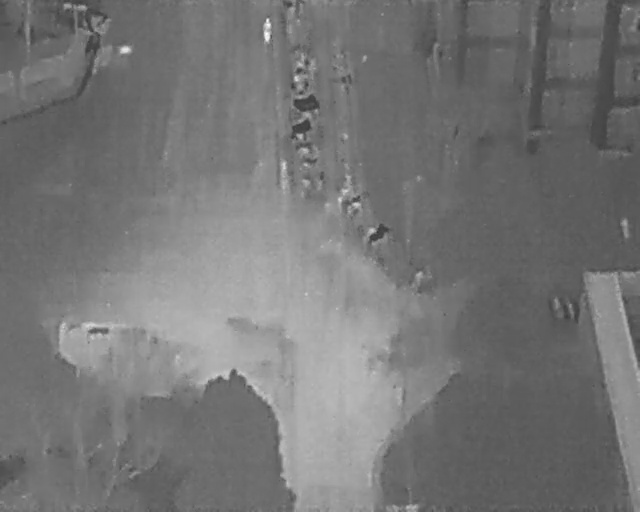Bicycle: (360, 217, 394, 248), (290, 91, 323, 117), (287, 52, 316, 80), (286, 114, 316, 140), (339, 191, 367, 218), (292, 139, 317, 157), (288, 79, 311, 96), (301, 156, 319, 170)
Person: (276, 161, 289, 189), (261, 15, 273, 44)
